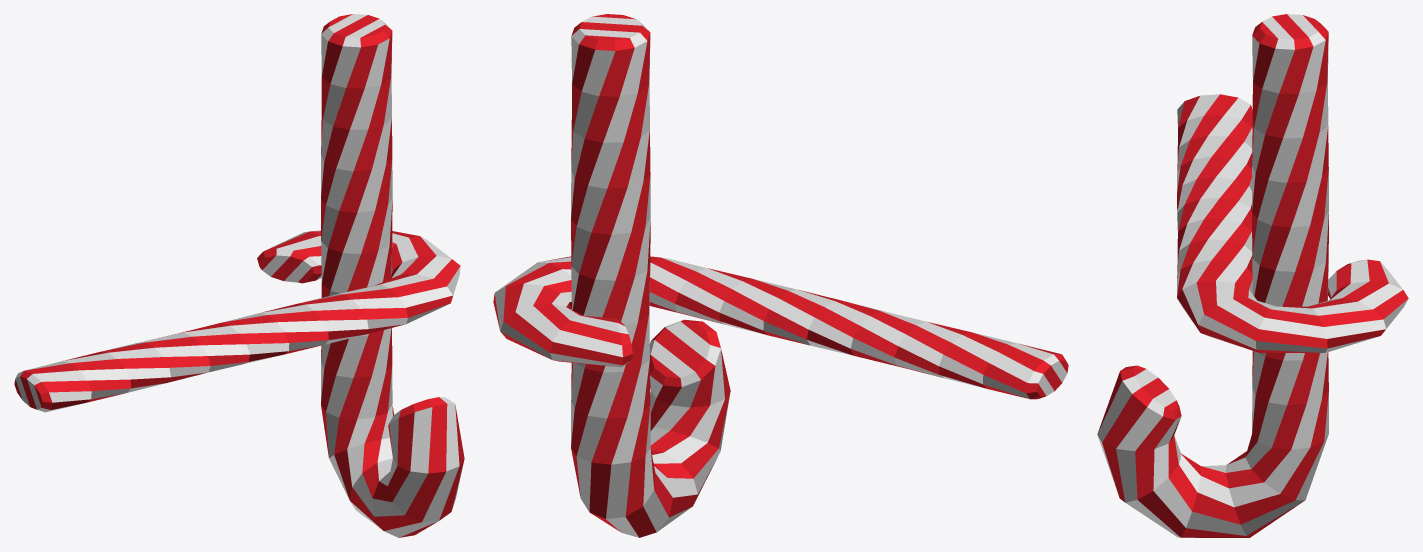
Rendered from candyCaneParts.fbx.
The picture shows the model from 3 angles, left to right: view 1: azimuth 30°, elevation 25°; view 2: azimuth 150°, elevation 25°; view 3: azimuth 270°, elevation 25°; orthographic projection. The views are drawn at different scales.
Visible parts, largest first — view 1: CandyCane, CaneWing; view 2: CandyCane, CaneWing; view 3: CandyCane, CaneWing.
Part boxes in pixels (left/top/right/bottom): CandyCane: left=321, top=14, right=464, bottom=537; CaneWing: left=14, top=230, right=460, bottom=412; CandyCane: left=571, top=14, right=730, bottom=537; CaneWing: left=493, top=256, right=1068, bottom=399; CandyCane: left=1097, top=14, right=1328, bottom=537; CaneWing: left=1177, top=94, right=1408, bottom=352.
Size of the model in its own units: 372 by 372 by 207.
